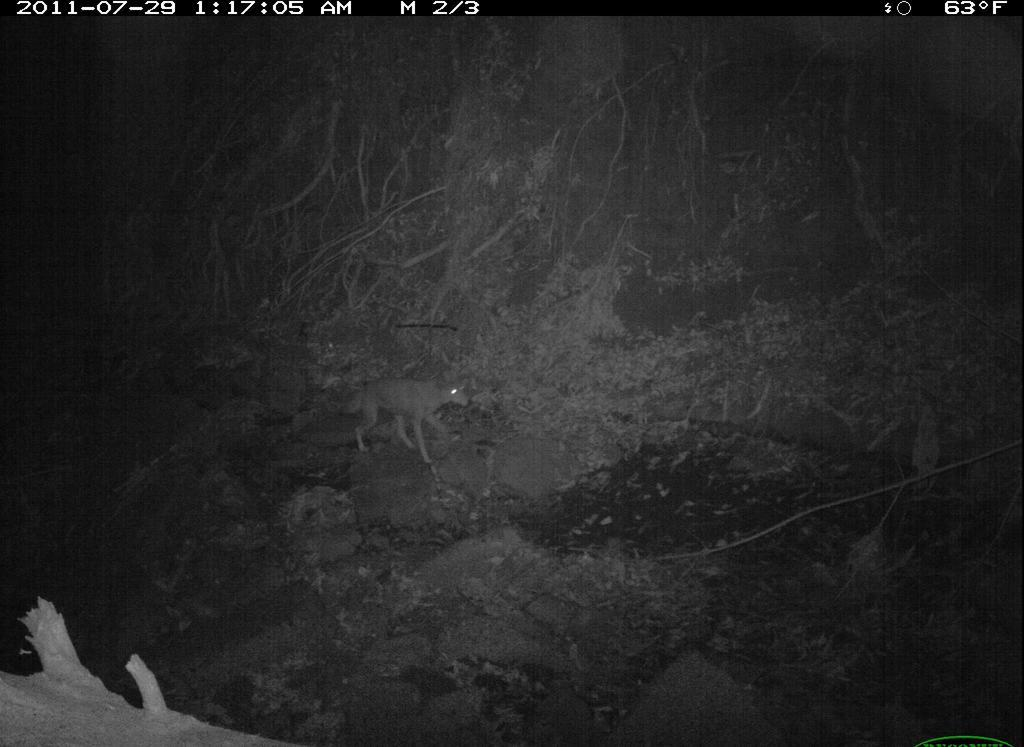coyote: (349, 364, 477, 466)
